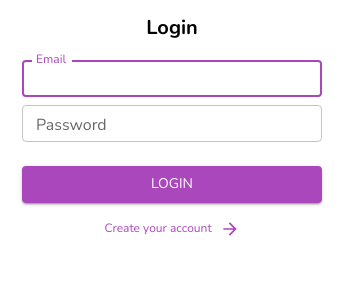
Test case: Login Form › Show validation errors after submitting an empty form › should render "Email is required"
The image size is (345, 301).
Click the button "login" at (172, 185), box [22, 166, 322, 203]
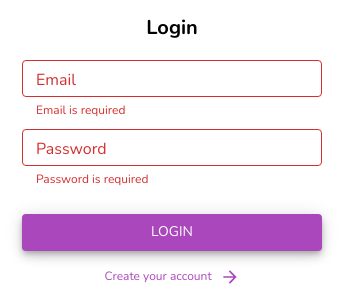
Check: the text "Email is required" is shown, box [36, 102, 125, 118]
